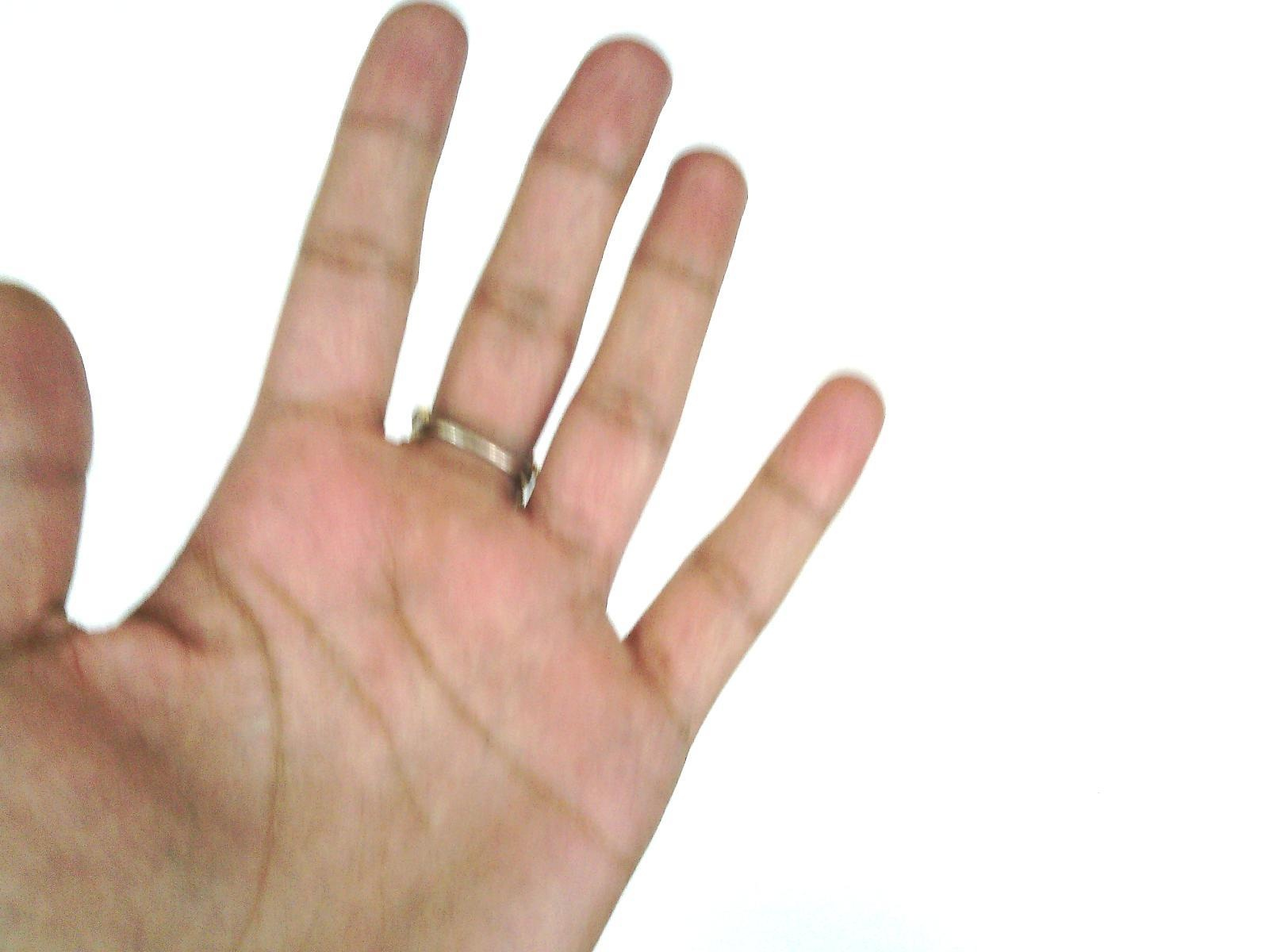open_palm: (4, 6, 888, 951)
